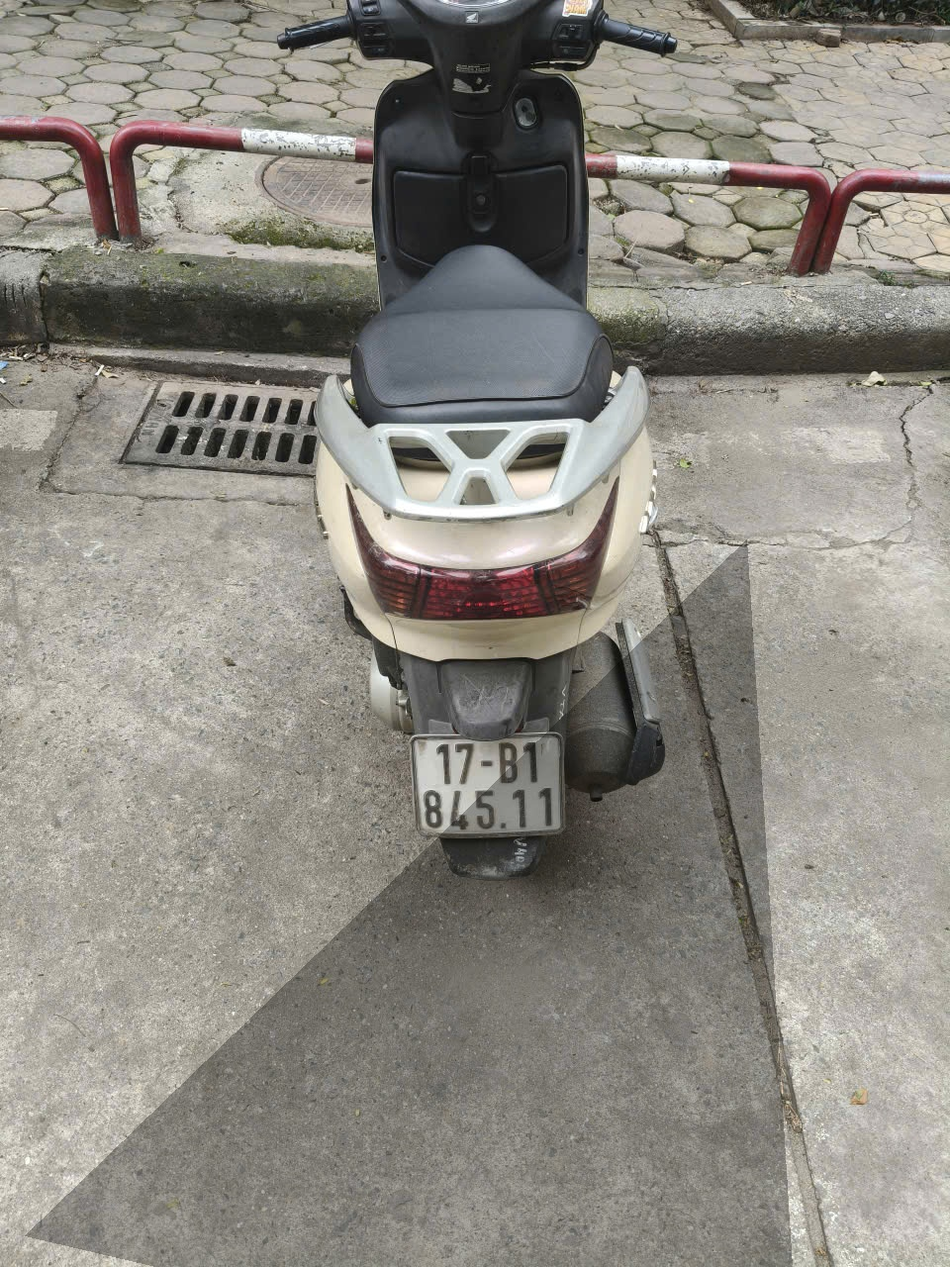plate: (265, 100, 378, 144)
